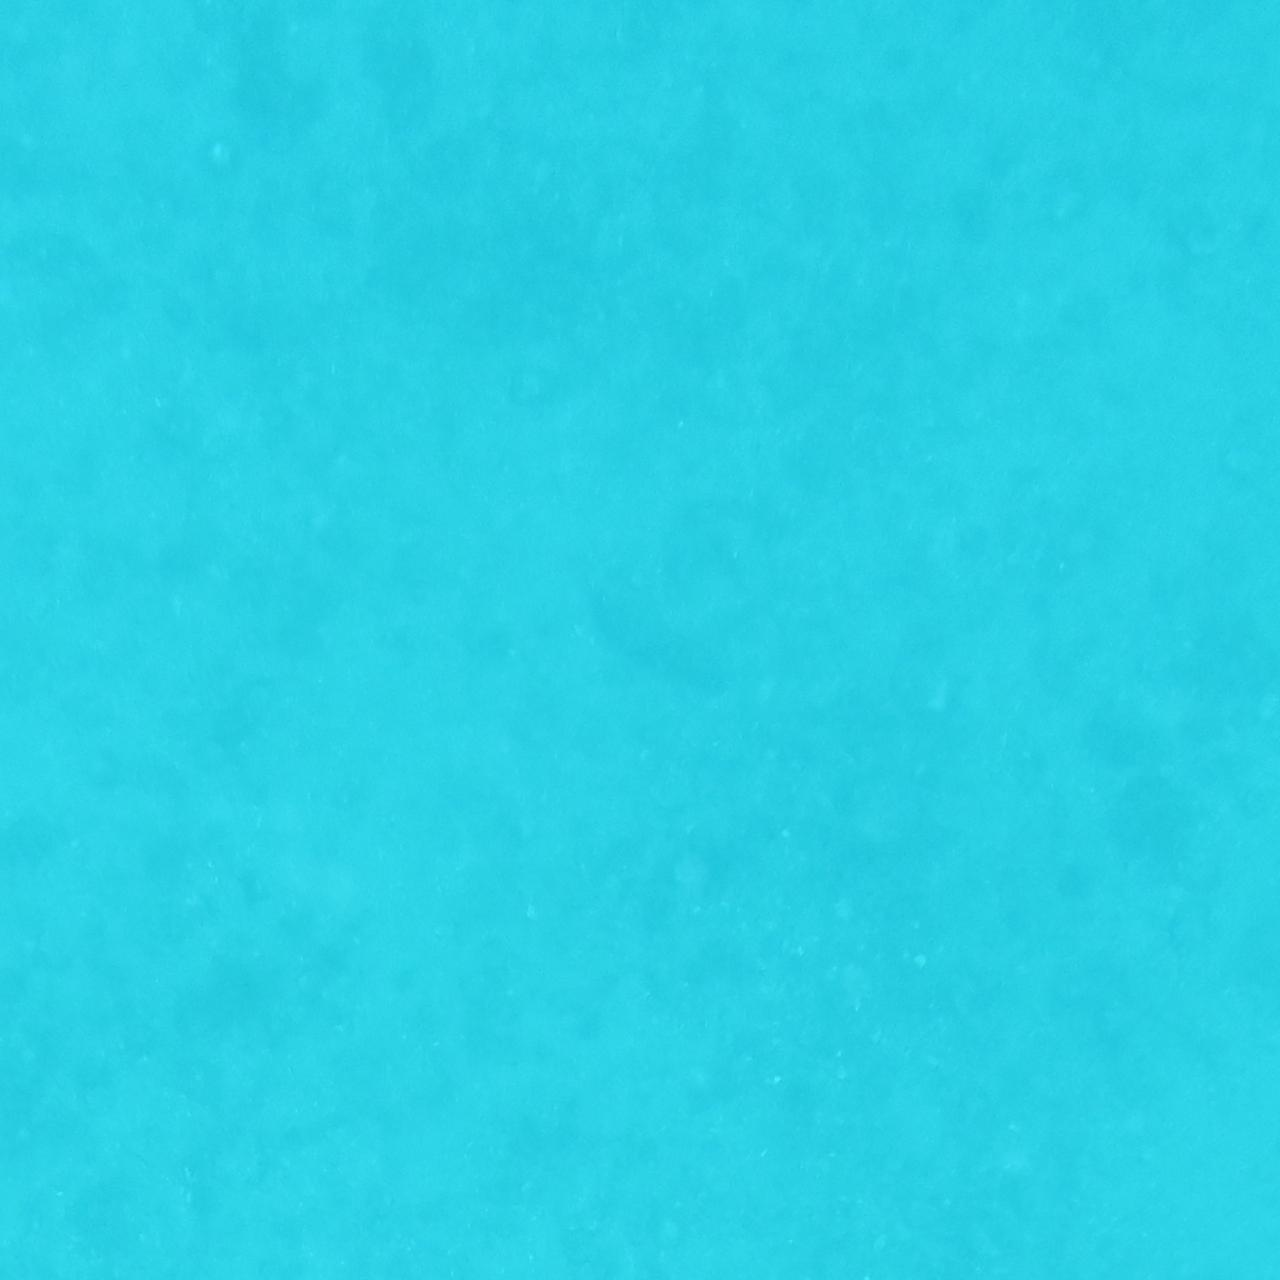Holothuria tubulosa: (555, 580, 725, 700)
